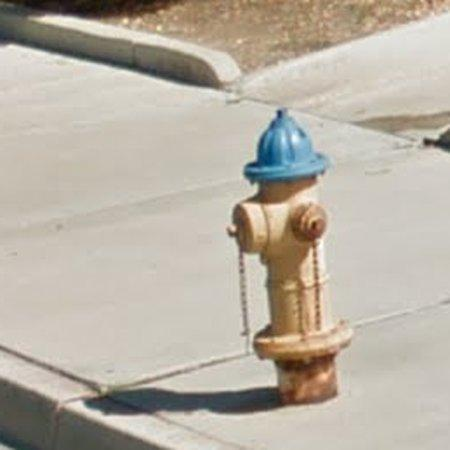a fire hydrant: (229, 109, 353, 404)
